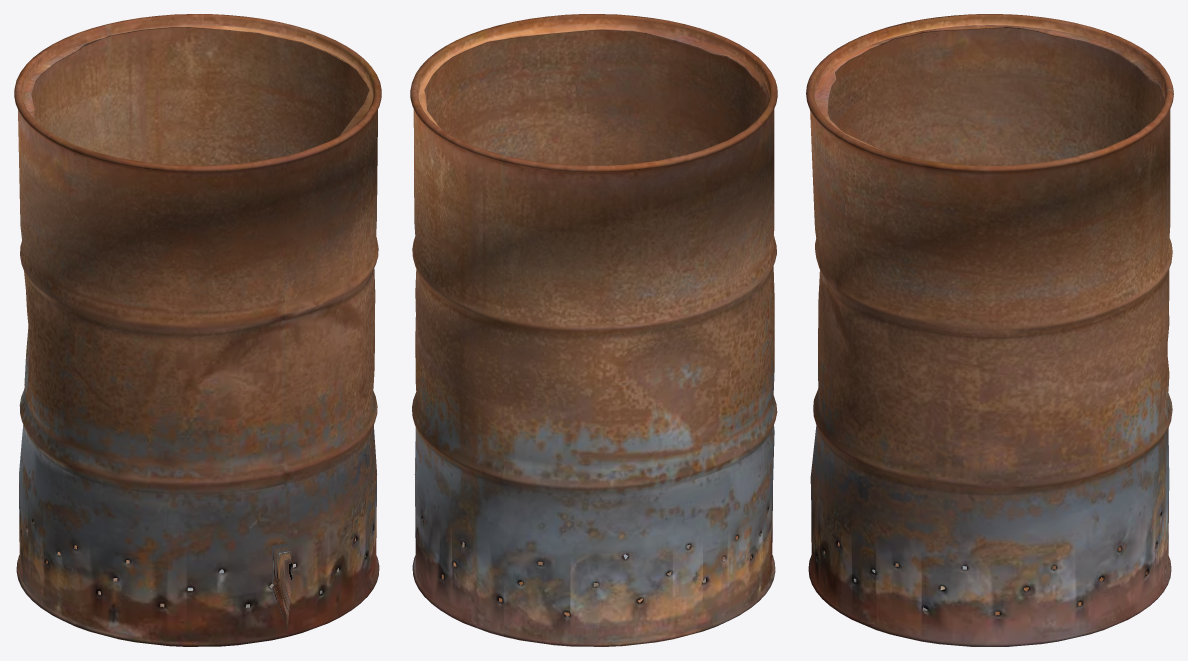
Rendered from barrel_stove.glb.
The picture shows the model from 3 angles, left to right: view 1: azimuth 30°, elevation 25°; view 2: azimuth 150°, elevation 25°; view 3: azimuth 270°, elevation 25°; orthographic projection.
Parts seen in each view (by area): view 1: barrel_stove; view 2: barrel_stove; view 3: barrel_stove.
Boxes of the visible parts, bbox=[...] form: barrel_stove: bbox=[14, 14, 381, 646]; barrel_stove: bbox=[410, 14, 777, 646]; barrel_stove: bbox=[806, 14, 1173, 646].
Bounding box in the file's own units: 0.5926 × 0.8556 × 0.5926.
Materials: 1 (1 with a texture image).
